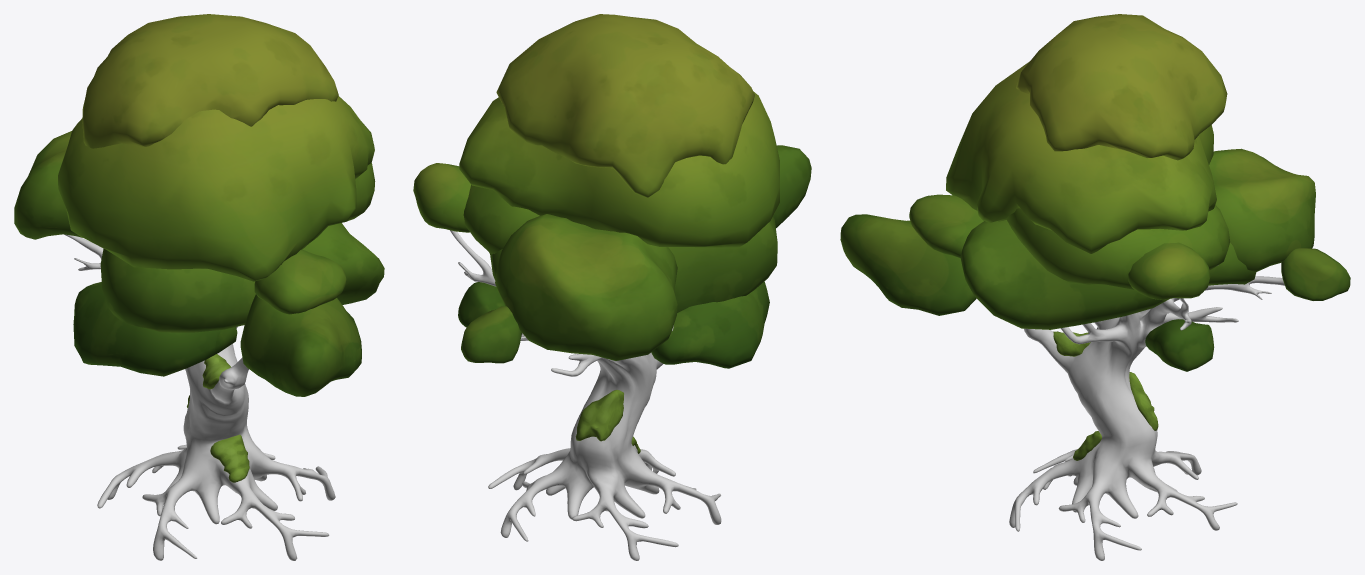
Rendered from biggest_tree_with_leafs_cream.fbx.
3 views of the same model, side by side, from view 1: azimuth 30°, elevation 25°; view 2: azimuth 150°, elevation 25°; view 3: azimuth 270°, elevation 25° (orthographic). The views are drawn at different scales.
Parts seen in each view (by area): view 1: Retopo_Sphere.032, Retopo_Sphere.042, biggest_tree_retopo, Retopo_Sphere.041, Retopo_Sphere.037, Retopo_Sphere.040, Retopo_Sphere.036, Retopo_Sphere.035, moss_lp, Retopo_Sphere.033; view 2: Retopo_Sphere.042, Retopo_Sphere.032, Retopo_Sphere.035, biggest_tree_retopo, Retopo_Sphere.040, Retopo_Sphere.041, Retopo_Sphere.034, Retopo_Sphere.033, Retopo_Sphere.039, Retopo_Sphere.037, moss_lp, Retopo_Sphere.038; view 3: Retopo_Sphere.032, Retopo_Sphere.042, biggest_tree_retopo, Retopo_Sphere.041, Retopo_Sphere.035, Retopo_Sphere.037, Retopo_Sphere.033, Retopo_Sphere.034, Retopo_Sphere.036, Retopo_Sphere.039, Retopo_Sphere.038, moss_lp.
Boxes of the visible parts, x1,y1,x2,y2 form: Retopo_Sphere.032: [58, 96, 374, 281]; Retopo_Sphere.042: [82, 14, 338, 148]; biggest_tree_retopo: [64, 234, 335, 560]; Retopo_Sphere.041: [100, 223, 384, 332]; Retopo_Sphere.037: [240, 294, 361, 396]; Retopo_Sphere.040: [73, 282, 237, 376]; Retopo_Sphere.036: [254, 249, 346, 314]; Retopo_Sphere.035: [14, 131, 82, 239]; moss_lp: [187, 354, 249, 482]; Retopo_Sphere.033: [348, 163, 375, 220]; Retopo_Sphere.042: [496, 14, 754, 197]; Retopo_Sphere.032: [459, 91, 779, 247]; Retopo_Sphere.035: [495, 214, 677, 360]; biggest_tree_retopo: [450, 230, 721, 560]; Retopo_Sphere.040: [651, 281, 769, 368]; Retopo_Sphere.041: [489, 216, 777, 312]; Retopo_Sphere.034: [413, 163, 470, 232]; Retopo_Sphere.033: [463, 185, 539, 253]; Retopo_Sphere.039: [461, 306, 521, 363]; Retopo_Sphere.037: [773, 145, 811, 227]; moss_lp: [575, 390, 640, 453]; Retopo_Sphere.038: [458, 282, 504, 327]; Retopo_Sphere.032: [946, 61, 1216, 253]; Retopo_Sphere.042: [1016, 14, 1227, 160]; biggest_tree_retopo: [1009, 265, 1284, 560]; Retopo_Sphere.041: [960, 220, 1256, 329]; Retopo_Sphere.035: [1209, 148, 1315, 271]; Retopo_Sphere.037: [840, 214, 976, 315]; Retopo_Sphere.033: [1006, 205, 1229, 289]; Retopo_Sphere.034: [1128, 242, 1210, 300]; Retopo_Sphere.036: [909, 194, 983, 257]; Retopo_Sphere.039: [1281, 248, 1350, 300]; Retopo_Sphere.038: [1145, 319, 1214, 371]; moss_lp: [1053, 331, 1158, 460].
Size of the model in its own units: 2430 by 3700 by 3567.
